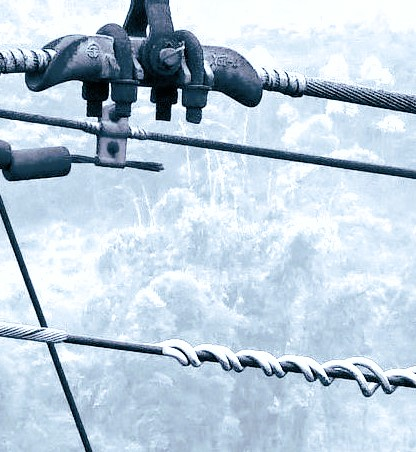Damage of shockproof hammer: (1, 108, 173, 193)
